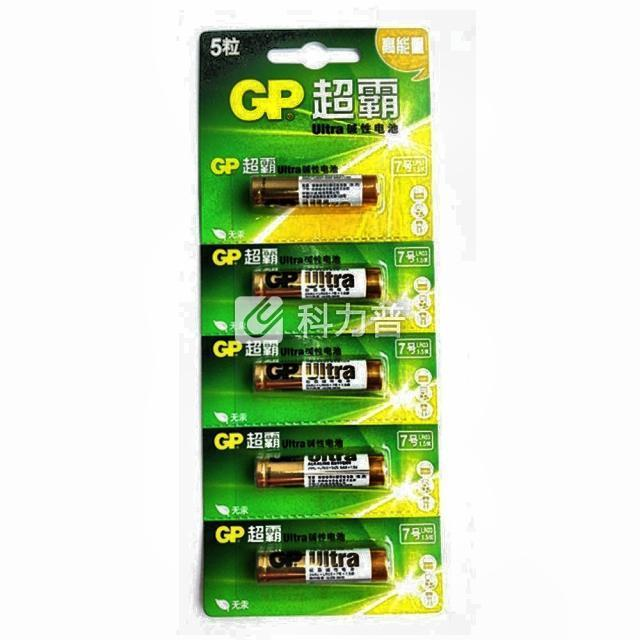battery: (256, 548, 388, 582), (255, 455, 385, 488), (250, 175, 378, 206), (254, 360, 382, 391), (252, 269, 382, 299)
